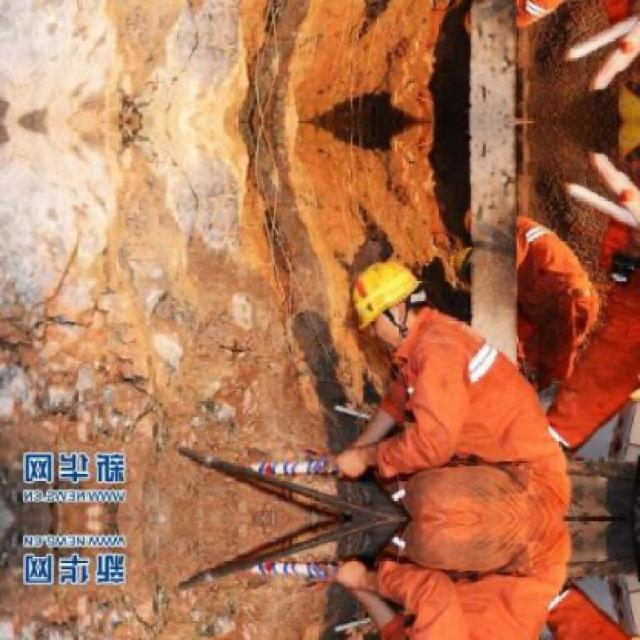con casco: (329, 239, 474, 343)
